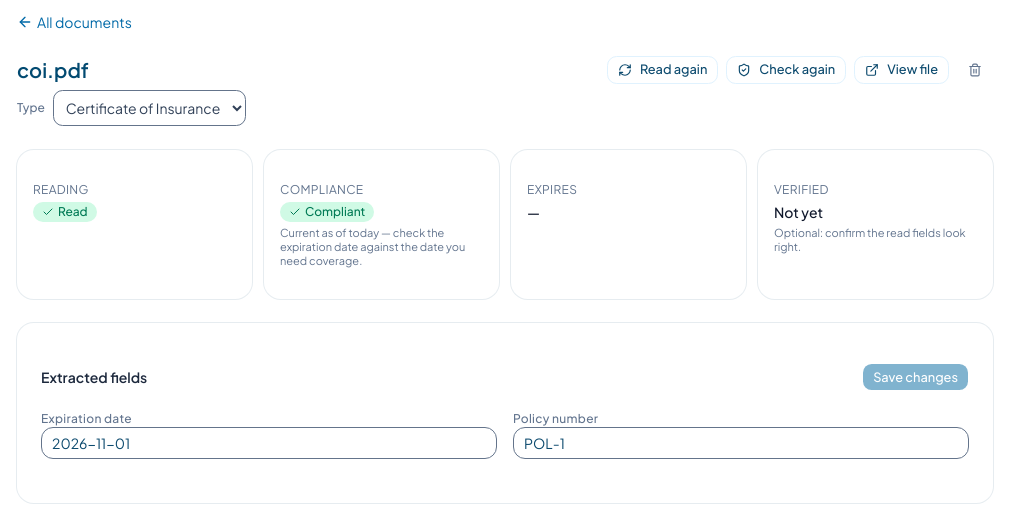
it: DocumentDetailPage — pending edits vs. 'Read again' (#363) › does not discard a field typed WHILE a save of another field is in flight
# Save an edit to expiration_date…
Replace the text in the field showing "2026-11-01" with "2027-05-05" at (269, 443), box [41,427,497,459]
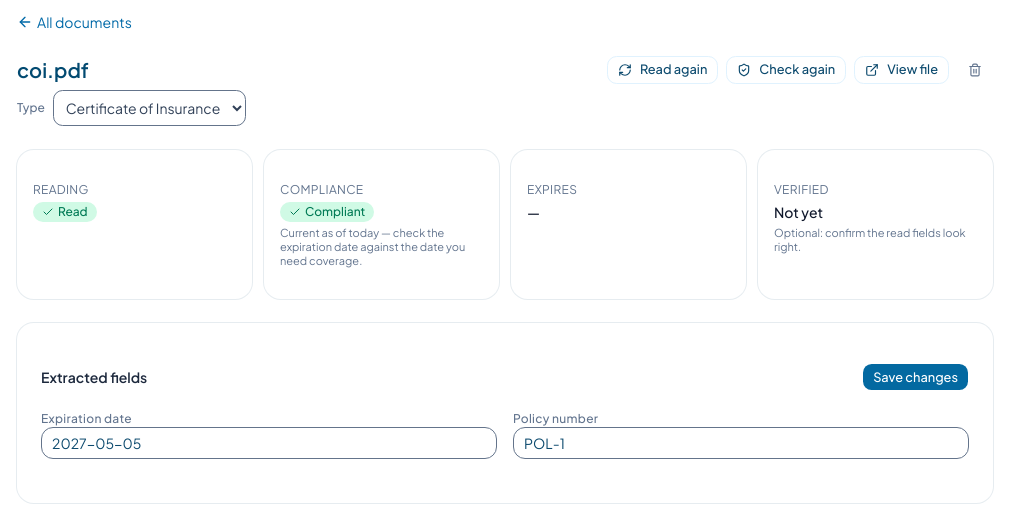
Click the button "Save changes" at (916, 377), box [862,363,969,391]
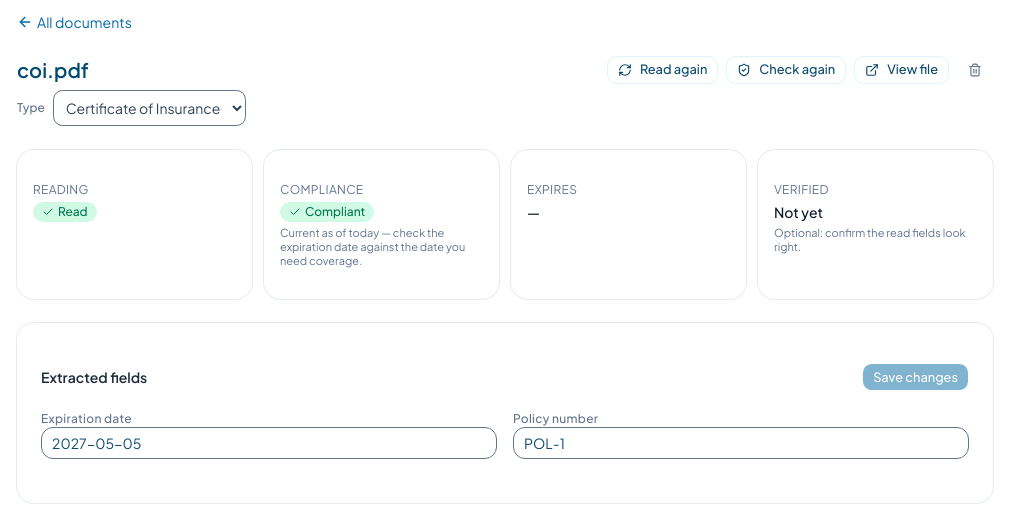
Result: the button "Save changes" is disabled at [862,363,969,391]
# …and correct a DIFFERENT field while that save is still in flight.
Replace the text in the field labelled "Policy number" with "POL-2" at (741, 443), box [513,427,969,459]
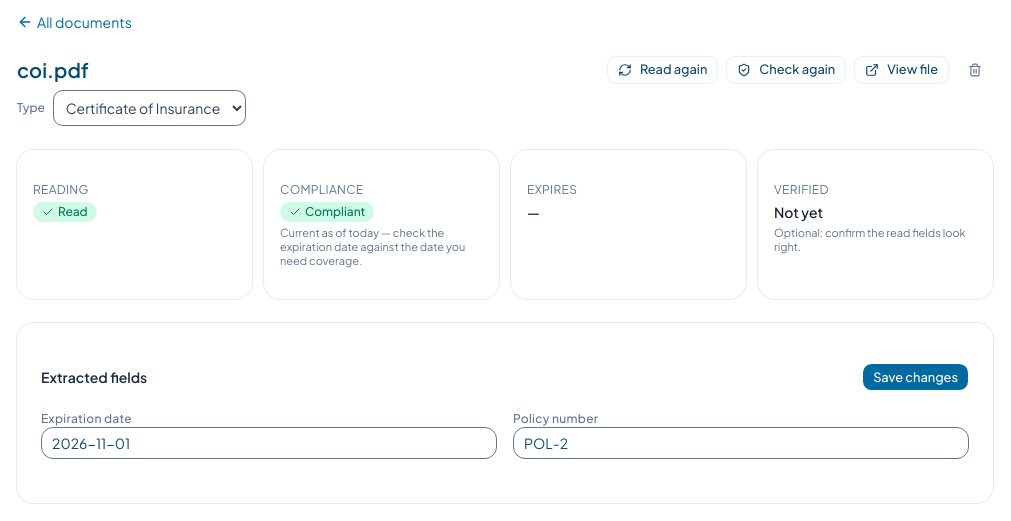
Result: the button "Save changes" is enabled at [862,363,969,391]
